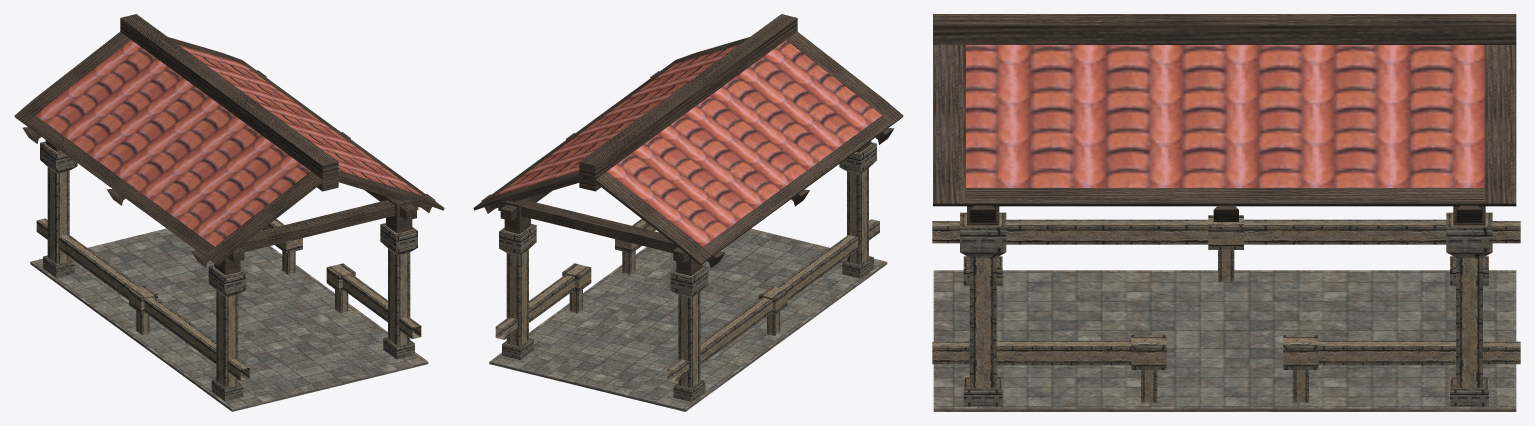
File: corredorjp-ENT2.fbx
3 views of the same model, side by side, from view 1: azimuth 30°, elevation 25°; view 2: azimuth 150°, elevation 25°; view 3: azimuth 270°, elevation 25° (orthographic). The views are drawn at different scales.
Visible parts, largest first — view 1: Cube; view 2: Cube; view 3: Cube.
Part boxes in pixels (left/top/right/bottom): Cube: left=14, top=14, right=444, bottom=411; Cube: left=473, top=14, right=903, bottom=411; Cube: left=932, top=14, right=1520, bottom=411.
Bounding box in the file's own units: 3.36 × 3.05 × 5.04.
